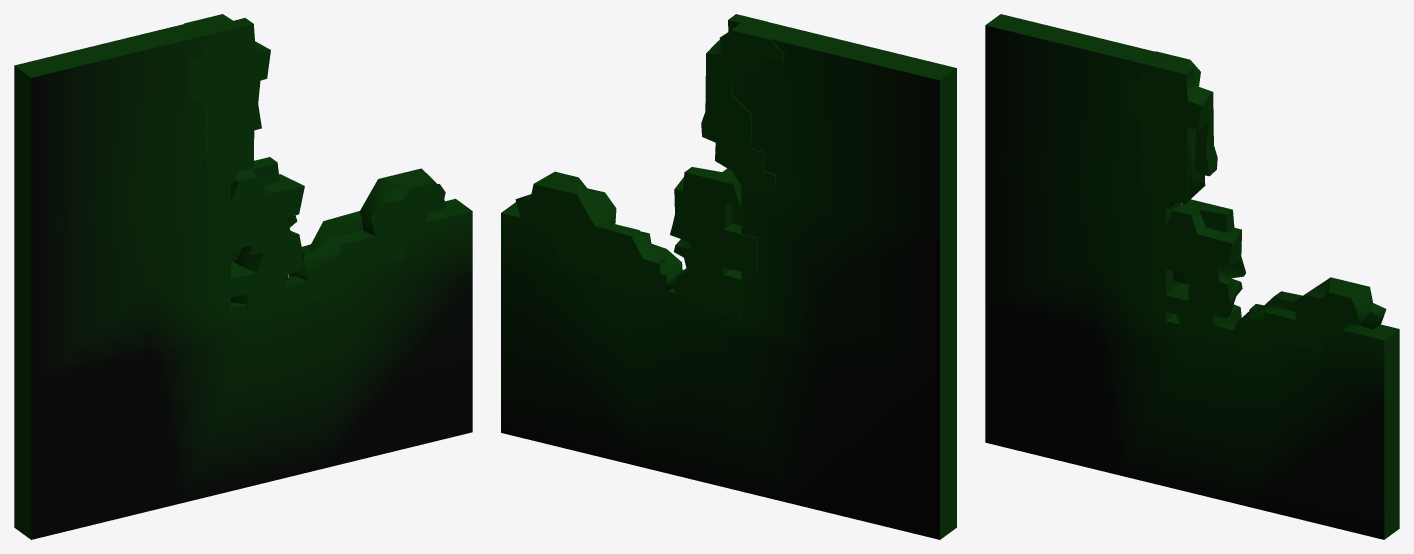
The model's file is DBK_Brick_90_A.fbx.
3 views of the same model, side by side, from view 1: azimuth 30°, elevation 25°; view 2: azimuth 150°, elevation 25°; view 3: azimuth 330°, elevation 25° (orthographic). The views are drawn at different scales.
Parts seen in each view (by area): view 1: DBK_Brick_90_A; view 2: DBK_Brick_90_A; view 3: DBK_Brick_90_A.
Boxes of the visible parts, bbox=[...] form: DBK_Brick_90_A: bbox=[14, 14, 472, 539]; DBK_Brick_90_A: bbox=[501, 14, 956, 539]; DBK_Brick_90_A: bbox=[985, 14, 1399, 539].
Size of the model in its own units: 300 by 300 by 21.12.
